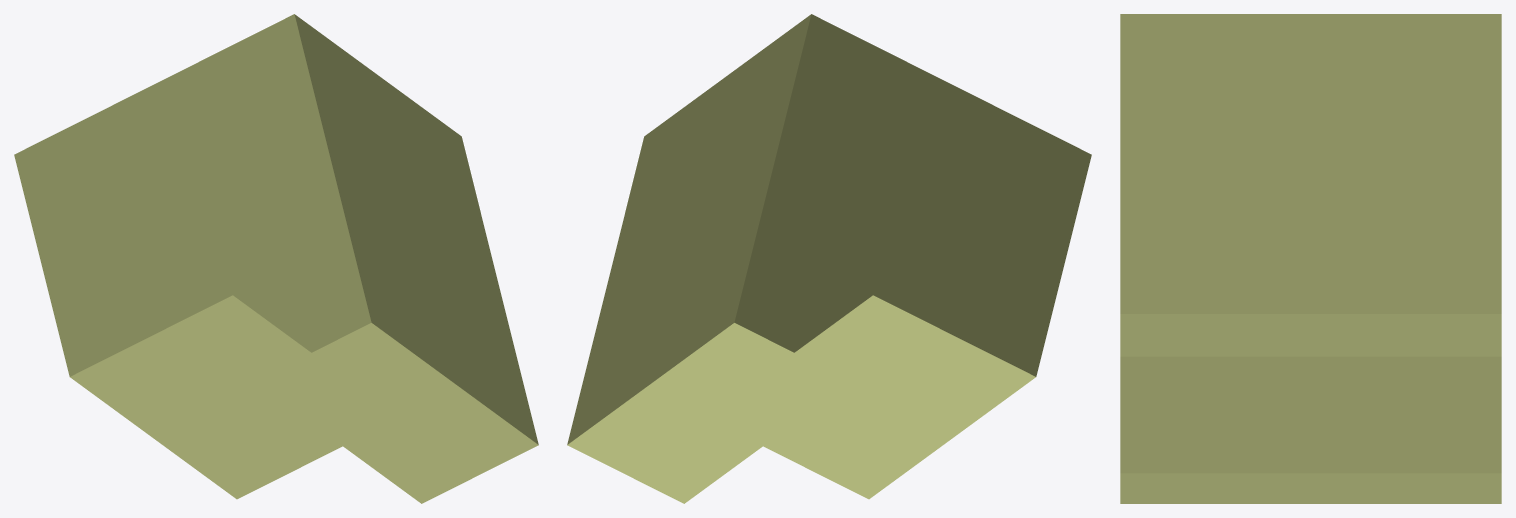
3 renders of one model, left to right at view 1: azimuth 30°, elevation 25°; view 2: azimuth 150°, elevation 25°; view 3: azimuth 270°, elevation 25°, orthographic. The views are drawn at different scales.
Visible parts, largest first — view 1: 0_1_0_2_0_1_3_0_3_1; view 2: 0_1_0_2_0_1_3_0_3_1; view 3: 0_1_0_2_0_1_3_0_3_1.
Part boxes in pixels (x1=…): 0_1_0_2_0_1_3_0_3_1: x1=14, y1=14, x2=538, y2=503; 0_1_0_2_0_1_3_0_3_1: x1=567, y1=14, x2=1091, y2=503; 0_1_0_2_0_1_3_0_3_1: x1=1120, y1=14, x2=1501, y2=503.
Size of the model in its own units: 11.1 by 10.62 by 9.
